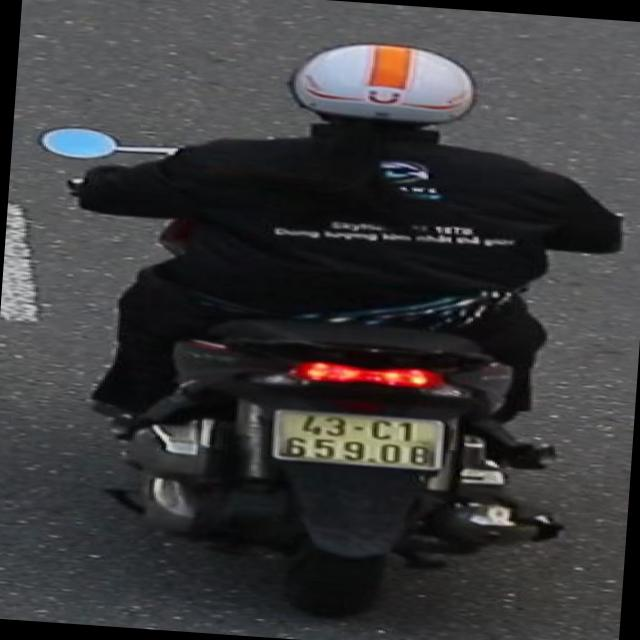LP: (262, 400, 454, 476)
helmet: (281, 28, 486, 159)
